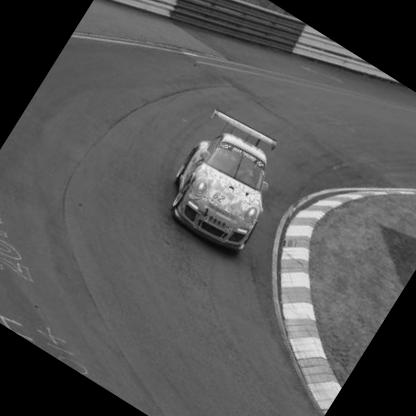car: (142, 90, 317, 274)
